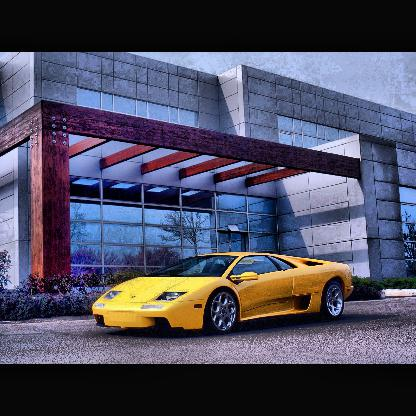Lamborghini Diablo Coupe 2001: (72, 238, 373, 347)
